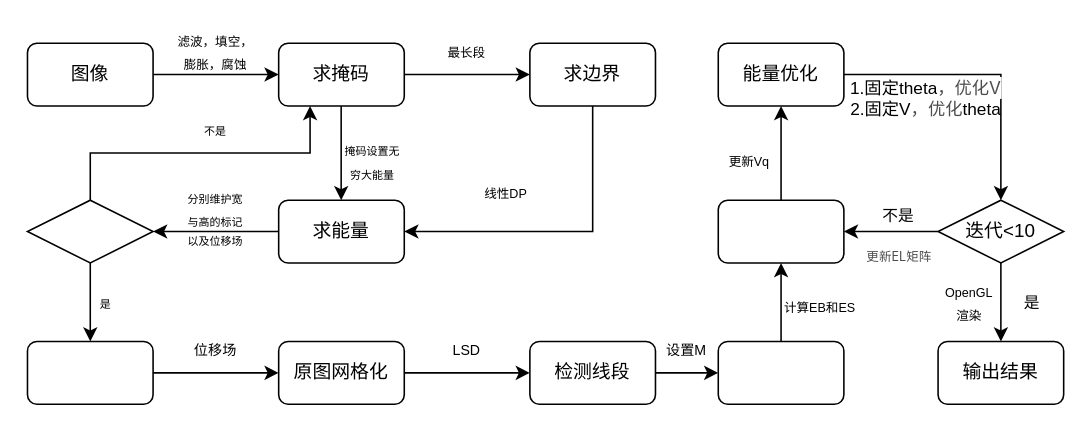
The diagram is 1091 pixels wide and 432 high, and some of its shapes have lost their labels. The shapes that lost their labels are listed below. From the top down, each one's centre as x and y in pixels, then its label:
At point (89, 231): "图像填满".
At point (780, 231): "能量初始化".
At point (89, 372): "网格化".
At point (780, 372): "分割线段".
